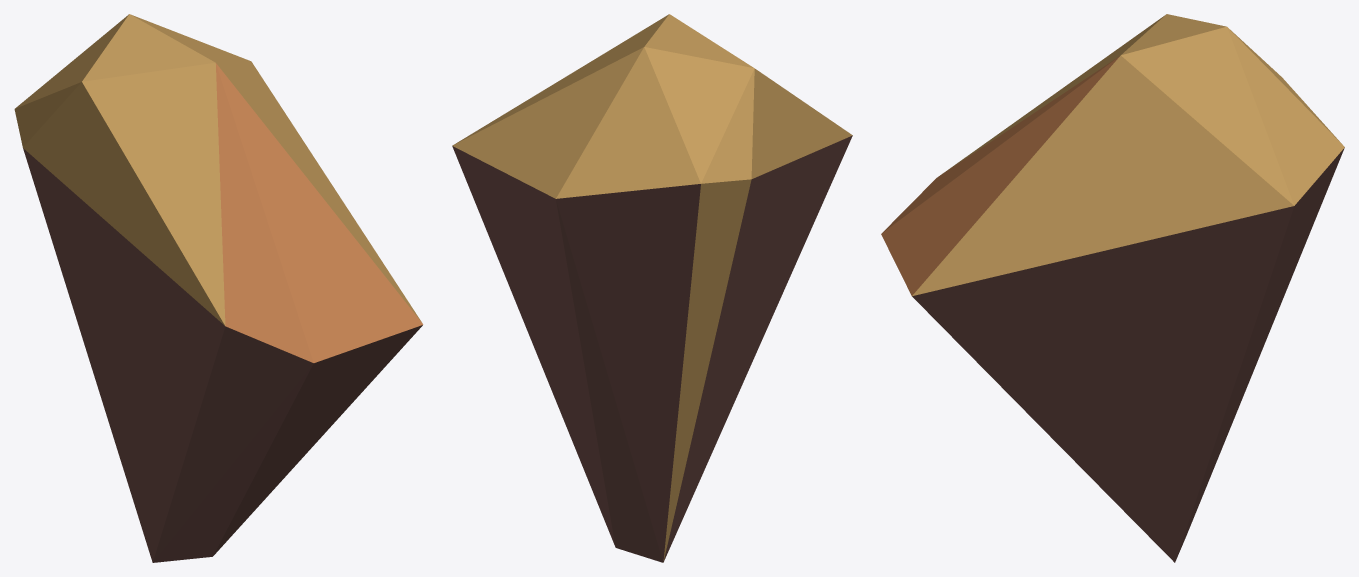
The model's file is CommonTree_Autumn_2.lod4.glb.
3 views of the same model, side by side, from view 1: azimuth 30°, elevation 25°; view 2: azimuth 150°, elevation 25°; view 3: azimuth 270°, elevation 25° (orthographic). The views are drawn at different scales.
Parts seen in each view (by area): view 1: CommonTree_Autumn_2; view 2: CommonTree_Autumn_2; view 3: CommonTree_Autumn_2.
Part boxes in pixels (x1=…): CommonTree_Autumn_2: x1=14, y1=14, x2=423, y2=562; CommonTree_Autumn_2: x1=452, y1=14, x2=852, y2=562; CommonTree_Autumn_2: x1=881, y1=14, x2=1344, y2=562.
Bounding box in the file's own units: 1.63 × 3.16 × 2.6.
